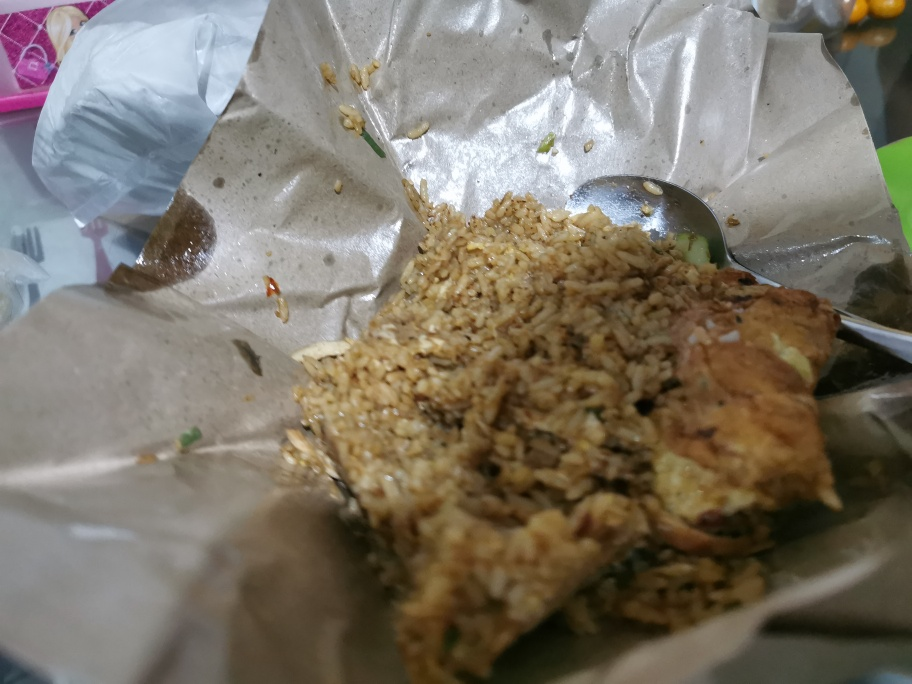nasi goreng: (315, 196, 831, 643)
